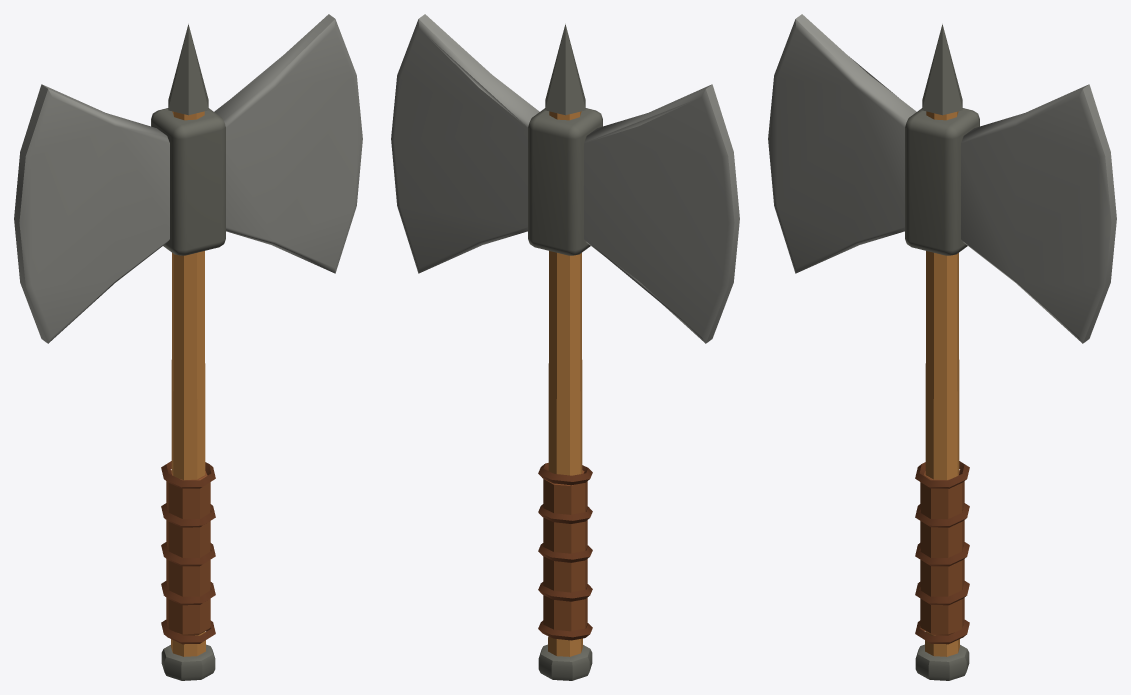
Rendered from StoneBattleAxe.fbx.
The picture shows the model from 3 angles, left to right: view 1: azimuth 30°, elevation 25°; view 2: azimuth 150°, elevation 25°; view 3: azimuth 330°, elevation 25°; orthographic projection.
Visible parts, largest first — view 1: StoneBattleAxe; view 2: StoneBattleAxe; view 3: StoneBattleAxe.
Boxes of the visible parts, x1,y1,x2,y2 form: StoneBattleAxe: (14, 14, 362, 680); StoneBattleAxe: (391, 14, 739, 680); StoneBattleAxe: (768, 14, 1116, 680).
Size of the model in its own units: 2.2 by 3.97 by 0.34.
Materials: 1 (1 with a texture image).
